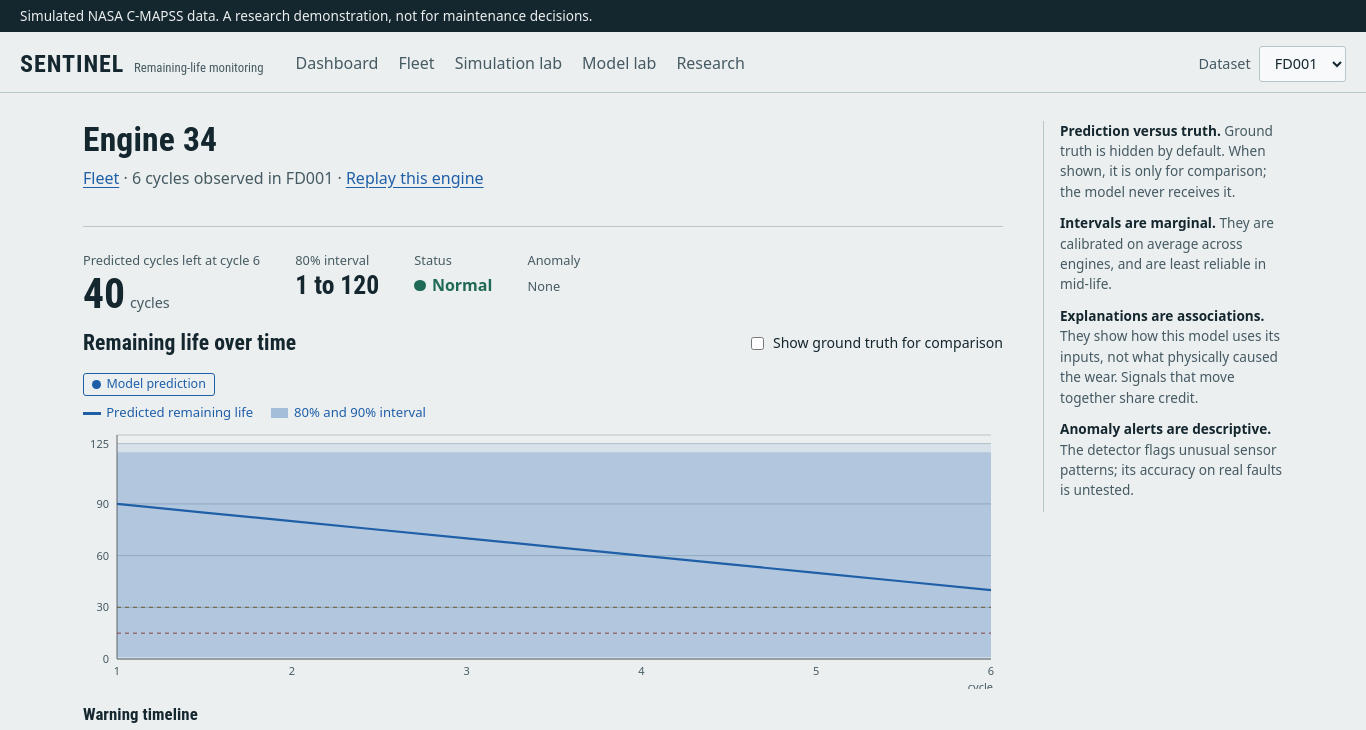
fleet explorer and engine selection › keeps ground truth off the engine page until asked
Check: the heading "Engine 34" is shown, box x1=83 y1=120 x2=217 y2=159
Check: the text "Ground truth, evaluation only" is not shown
Click the checkbox labelled "Show ground truth for comparison": point(757, 343) x1=750 y1=336 x2=764 y2=350
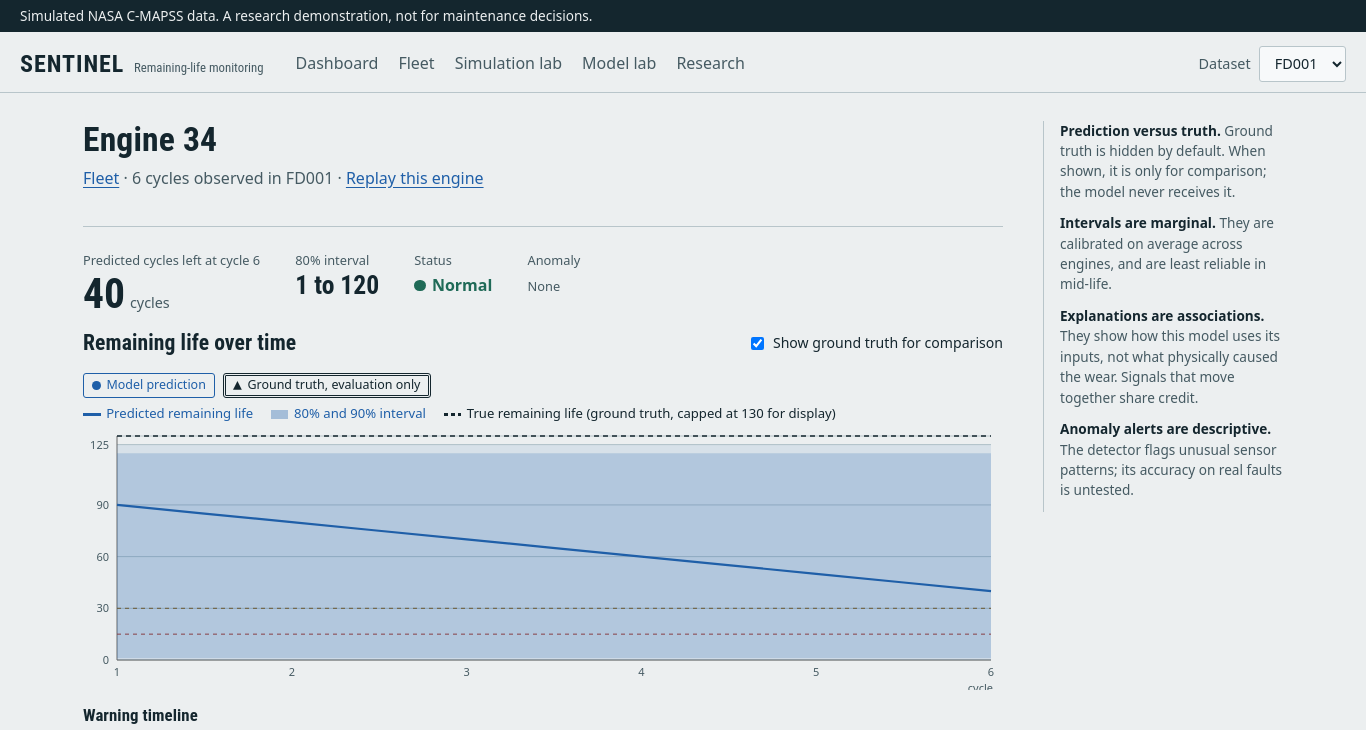
Check: the text "Ground truth, evaluation only" is shown, box x1=223 y1=373 x2=431 y2=398
